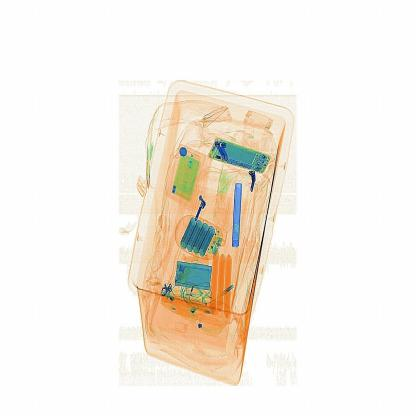pliers: (231, 181, 244, 248)
